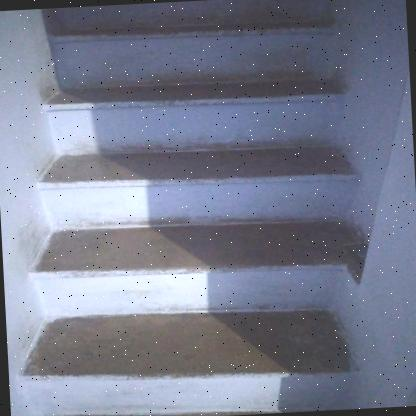stair: (0, 2, 373, 416)
